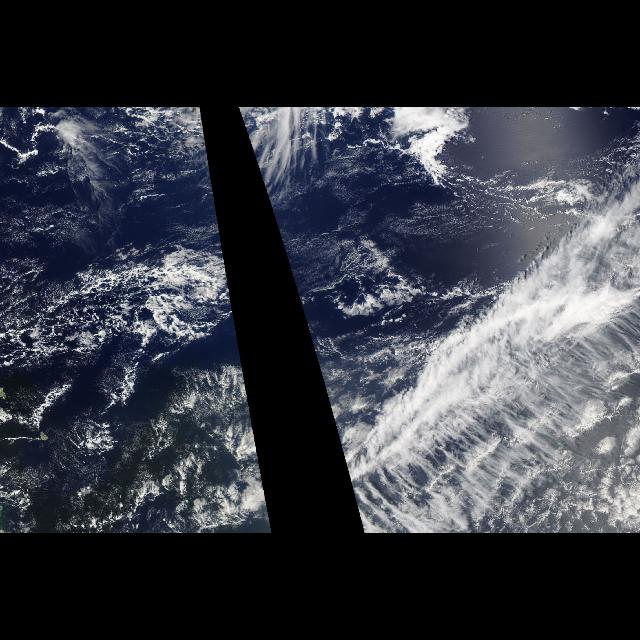Gravel: (8, 381, 264, 532), (2, 258, 238, 338), (286, 258, 454, 338)
